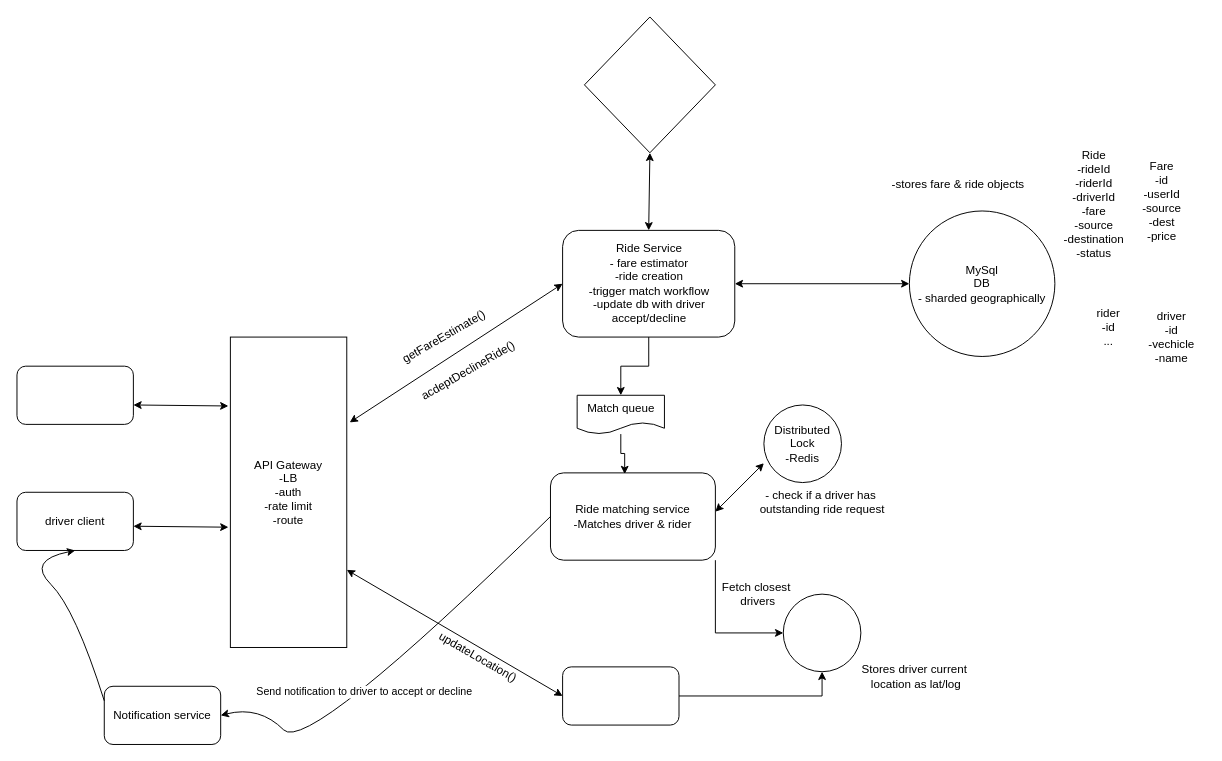
The diagram is 1222 pixels wide and 761 high, and some of its shapes have lost their labels. Each missing label, with the box of its shape:
3rd party mapping service -Google Maps: (583, 16, 715, 153)
location db - Redis: (782, 593, 861, 672)
Location service: (562, 666, 679, 725)
rider client: (16, 365, 133, 424)
